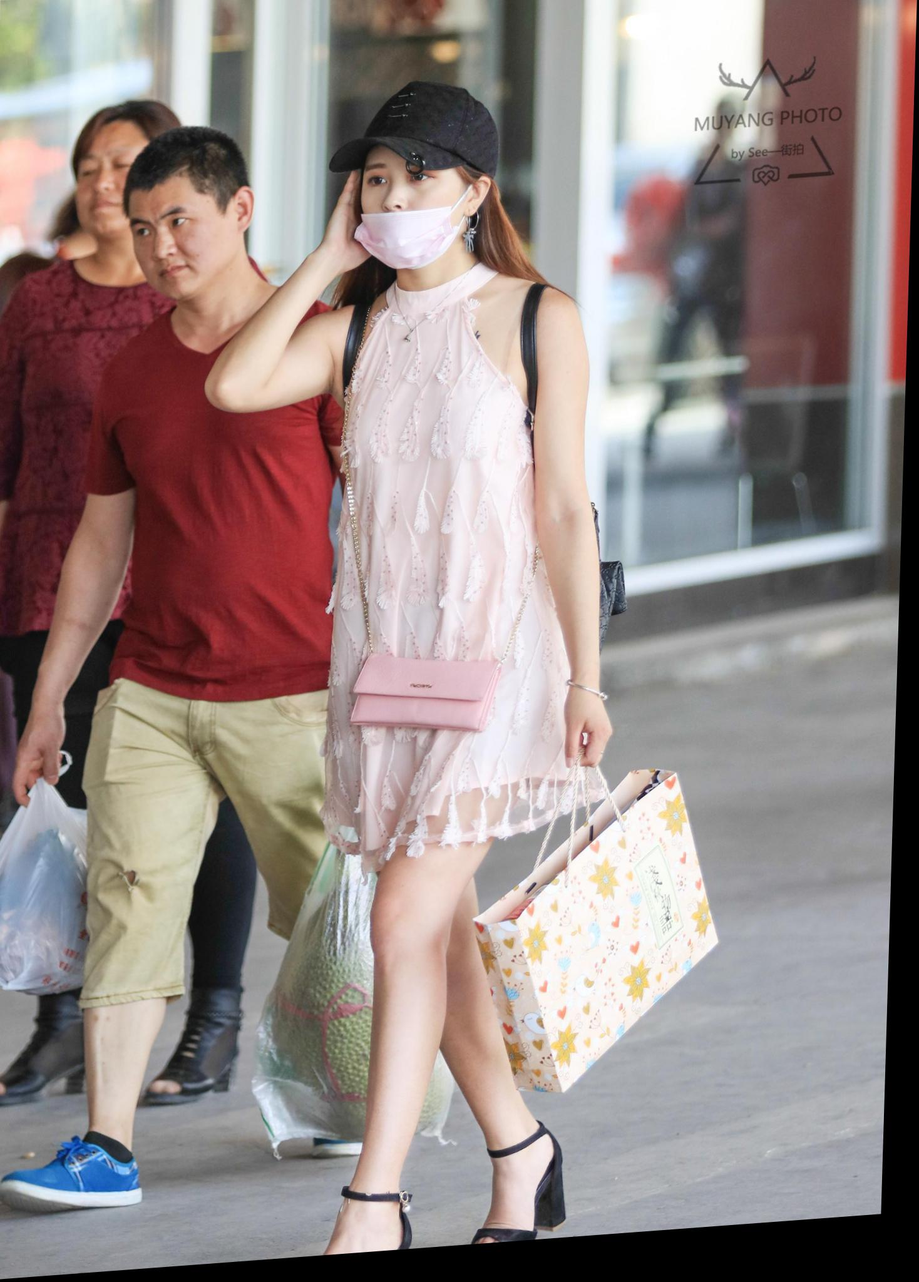NONE: (126, 190, 244, 307), (74, 142, 167, 234)
WRONG: (355, 153, 473, 278)
